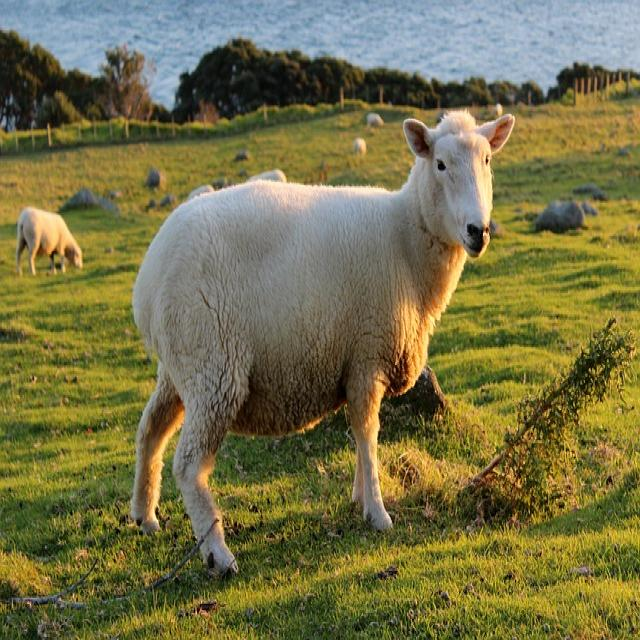goat: (128, 110, 518, 577), (14, 207, 83, 278)
